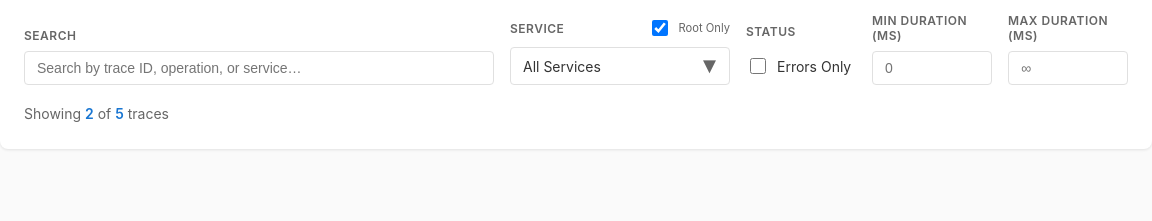
TraceFilters › selects a service from the shared picker
The width and height of the screenshot is (1152, 221).
Click the button labelled "All Services ▾".
click(620, 66)  # box [510,47,730,85]
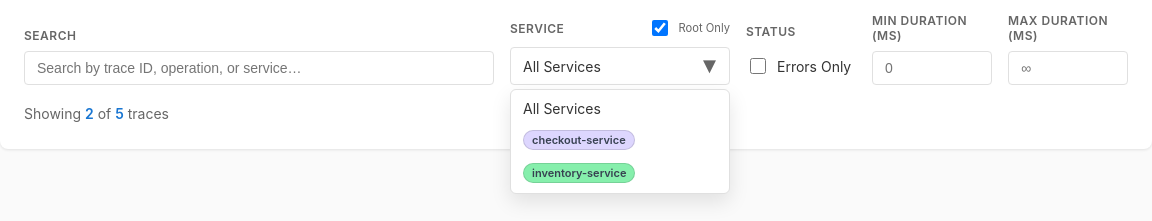
Click the button "inventory-service".
click(620, 173)  # box [515,157,725,189]
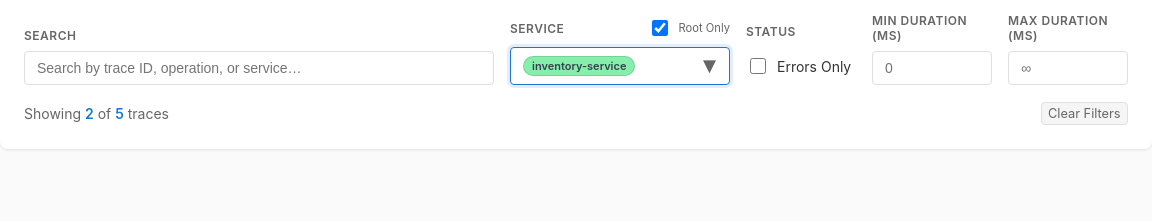
Expected: the button labelled "inventory-service ▾" is shown, [510,47,730,85]
